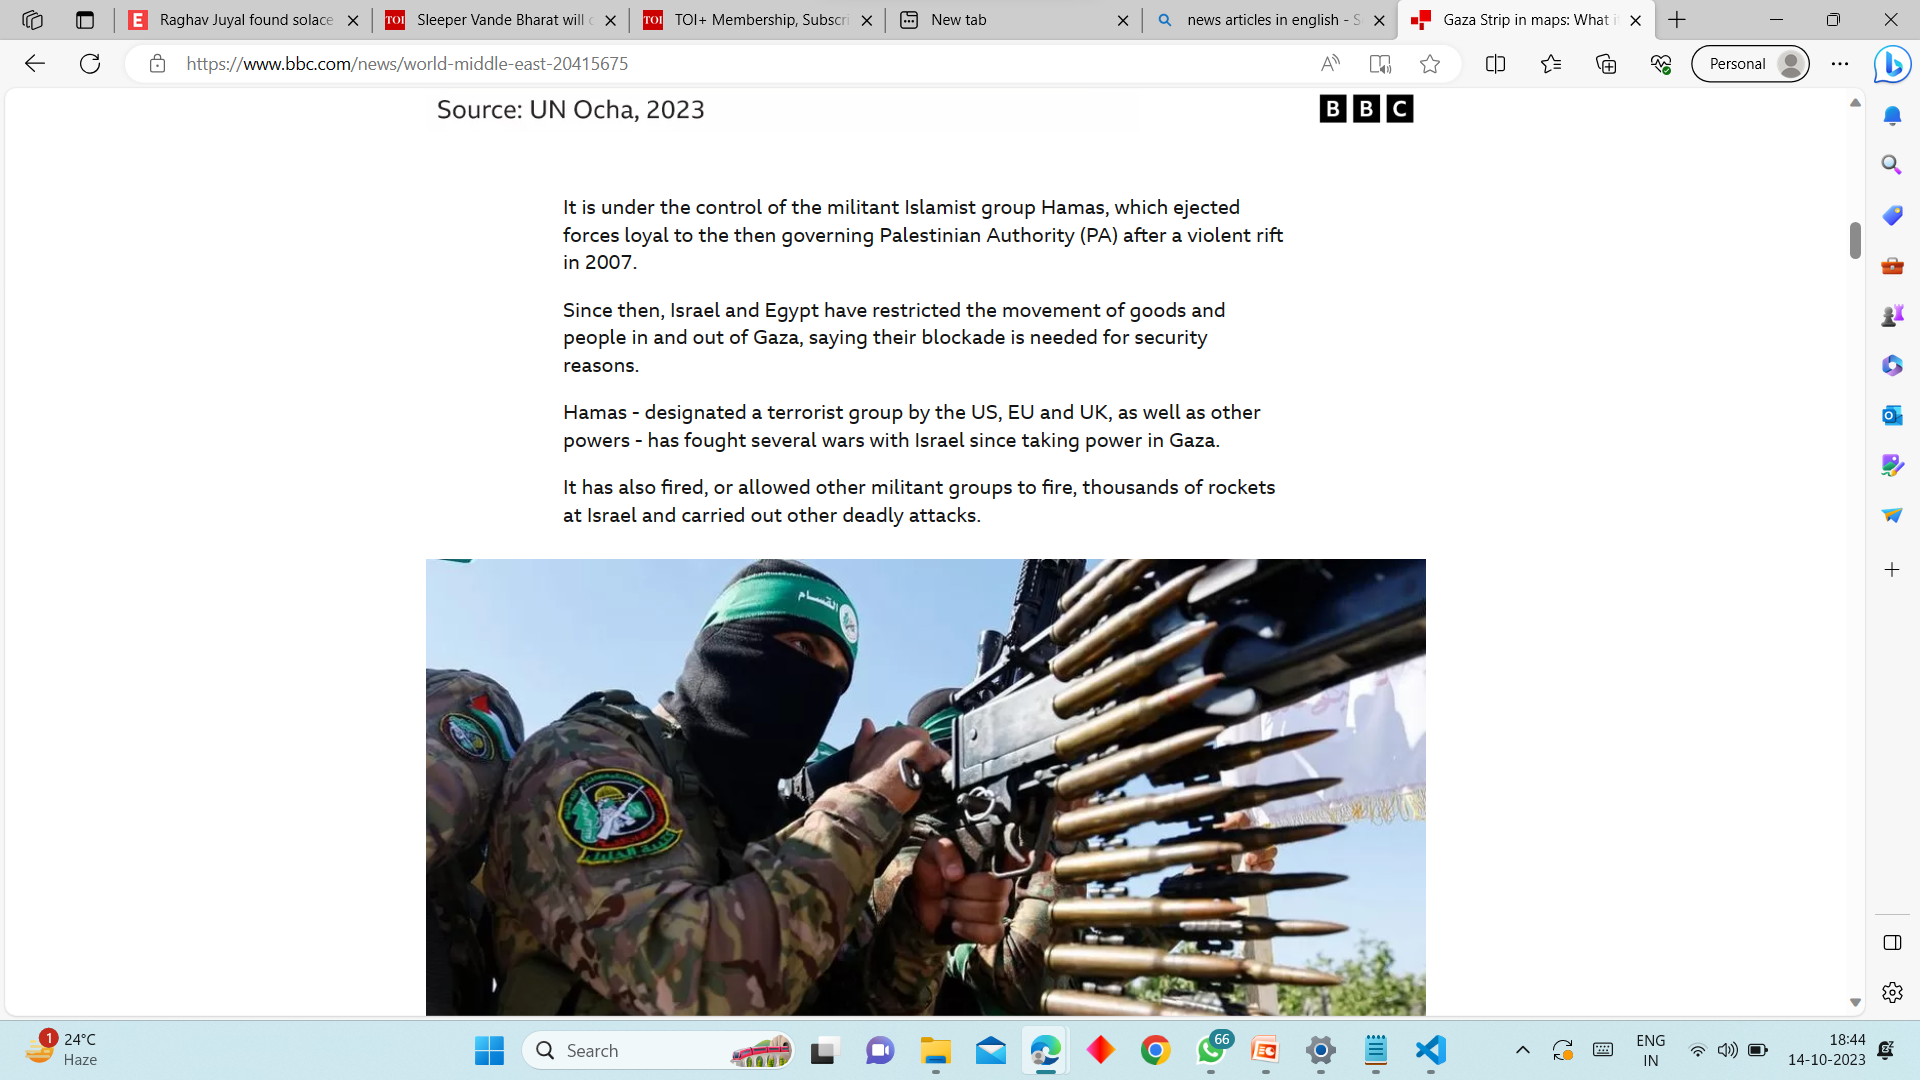Image: (414, 556, 1478, 1004), (1312, 80, 1424, 141)
Paragraph: (553, 195, 1304, 282), (553, 293, 1276, 382), (562, 389, 1295, 459), (553, 467, 1282, 537), (418, 84, 729, 128)
